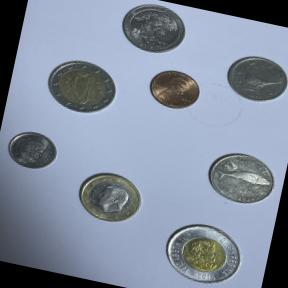coin: (148, 207, 257, 288), (32, 46, 132, 130), (191, 137, 288, 219), (62, 158, 154, 234), (107, 0, 198, 66), (137, 58, 212, 122), (0, 121, 67, 179)
